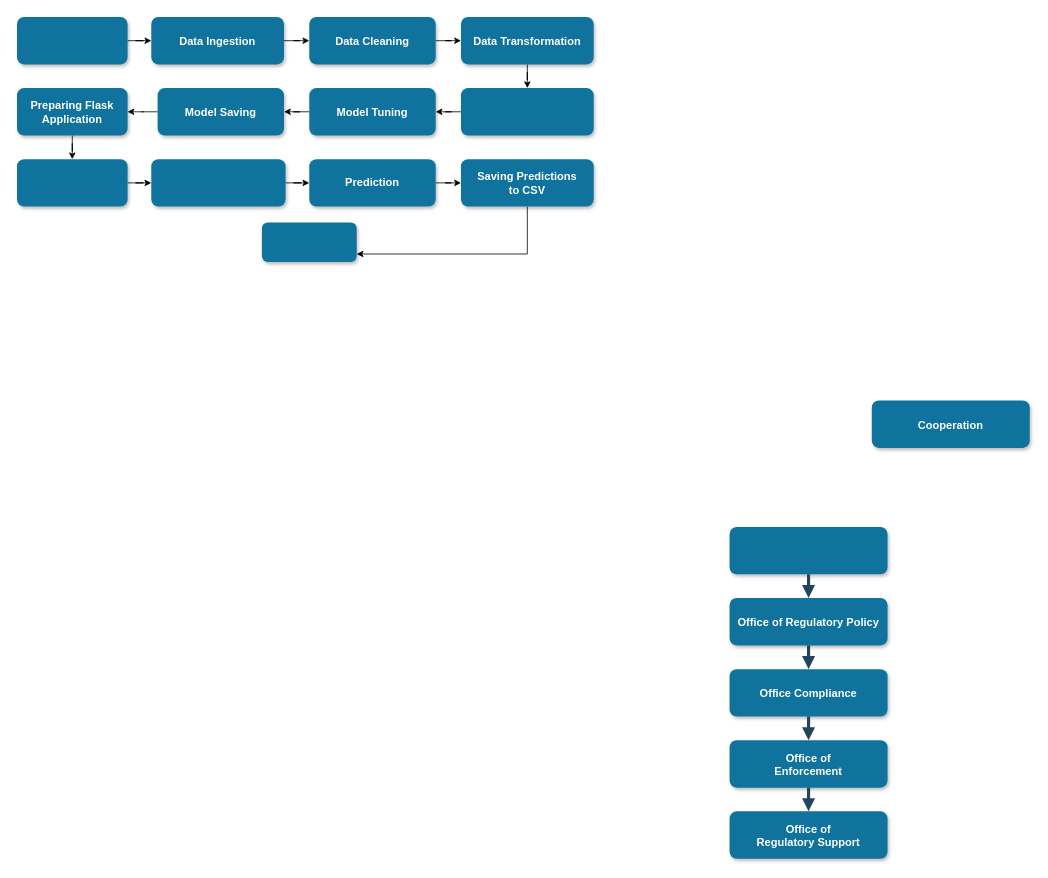
This 1048x878 diagram has some shape labels left out. The shapes that lost their labels are listed below. From the top down, each one's centre as x and y in pixels, then its label:
At point 72,41: "Start".
At point 527,113: "Model Building".
At point 72,184: "Bulding Routes and Webpages".
At point 219,184: "Getting Data to predict".
At point 309,243: "END".
At point 809,551: "Regulatory and Enforcement Division".
